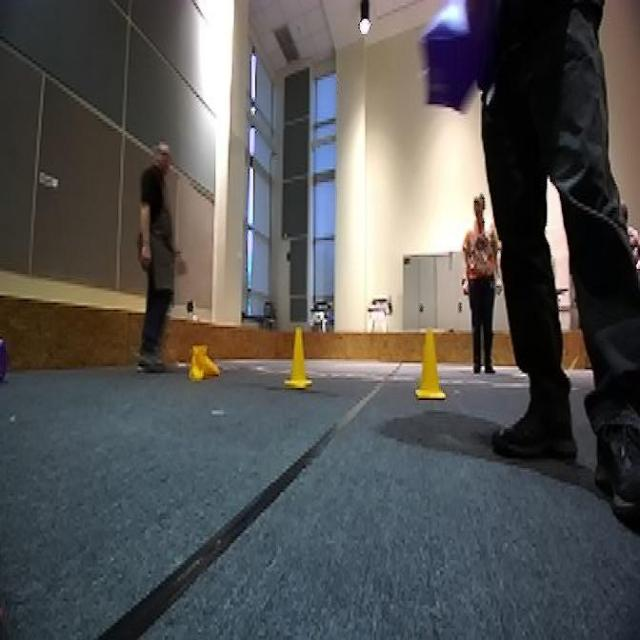frc_cone: (408, 328, 454, 398), (282, 328, 314, 386), (188, 346, 217, 381)
frc_cube: (411, 0, 489, 117), (0, 337, 11, 383)
